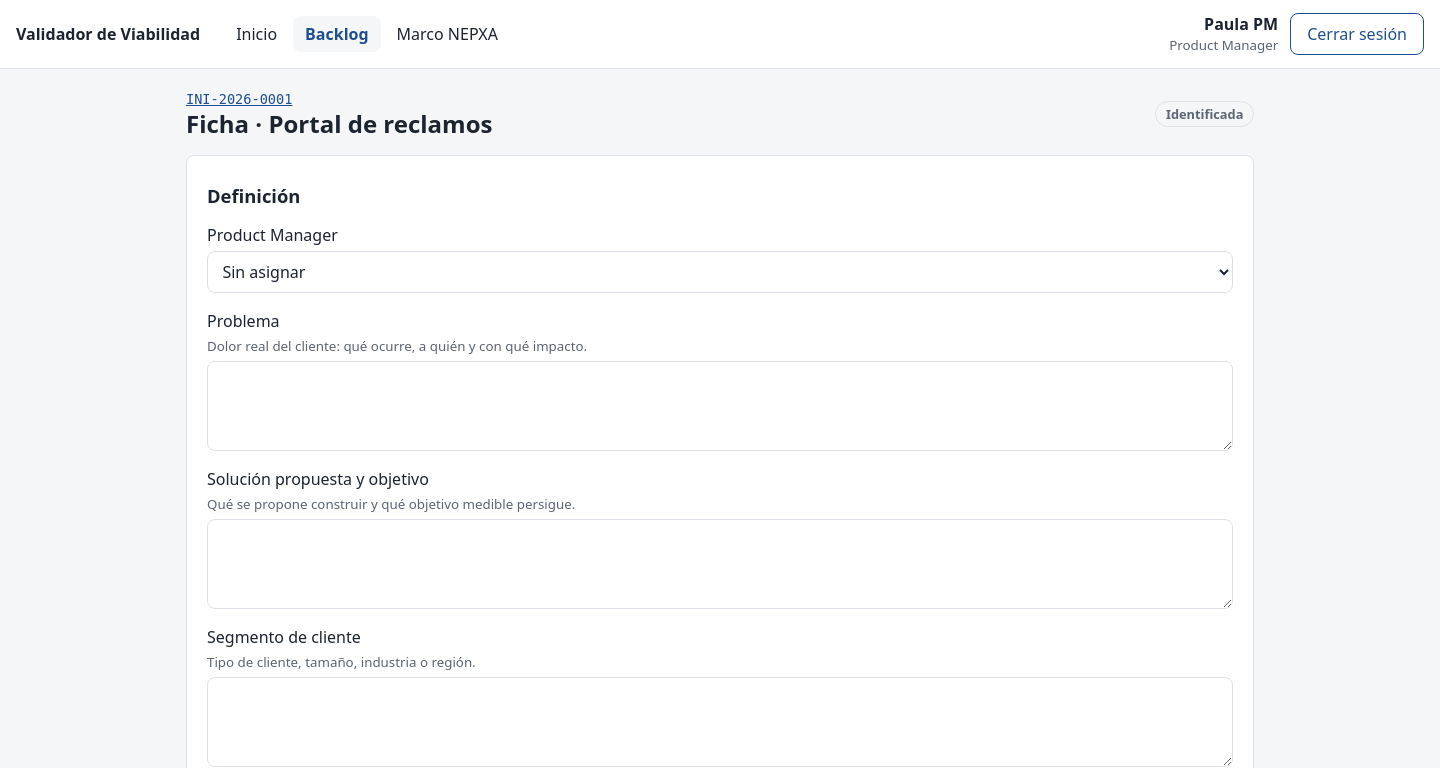
Test: al estructurar con la ficha incompleta lista los faltantes
Type "Llamadas al call center" into the text box labelled "Problema" at {"x": 720, "y": 406}, box x1=207 y1=361 x2=1233 y2=451
(page scrolled)
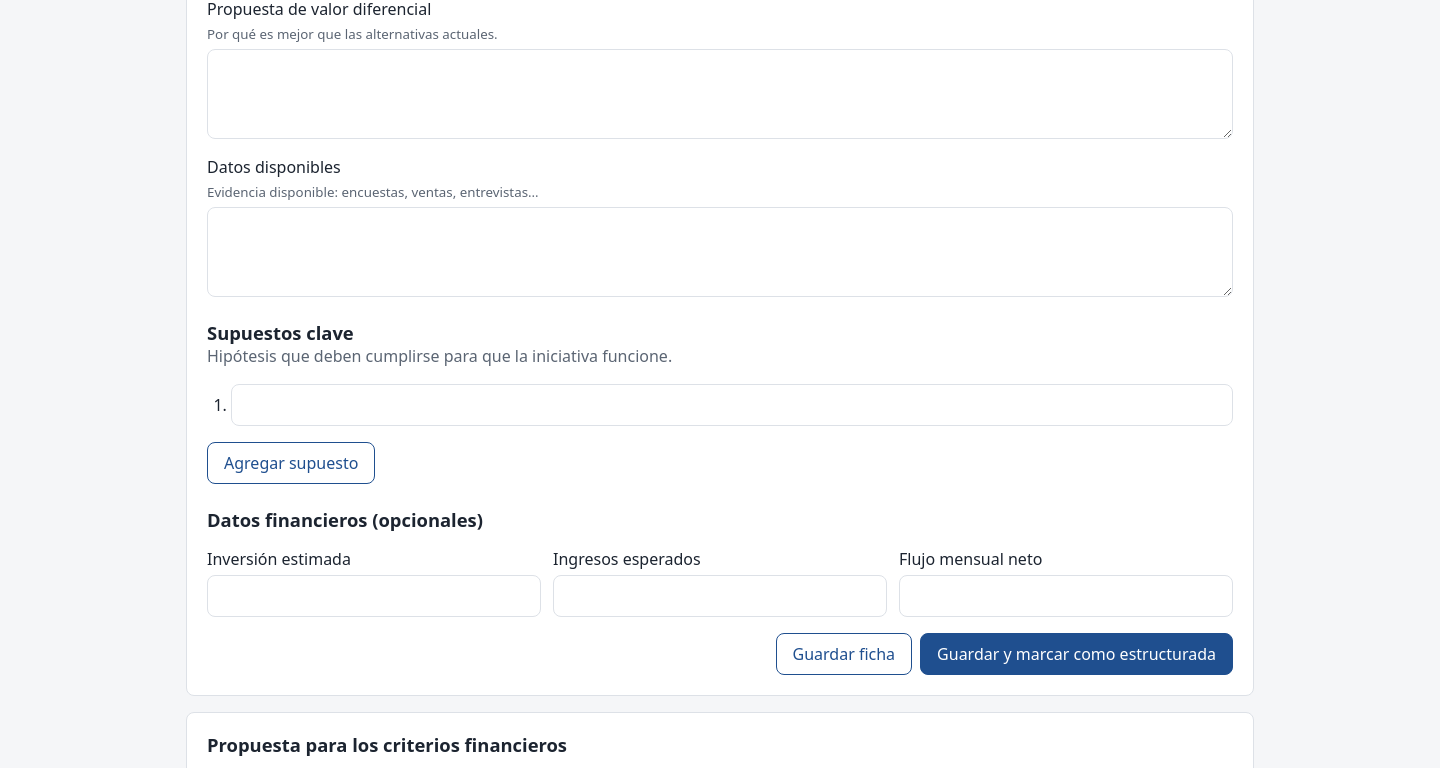
Type "Prefieren autogestión" into the field named "Supuesto 1" at {"x": 732, "y": 405}, box x1=231 y1=384 x2=1233 y2=426
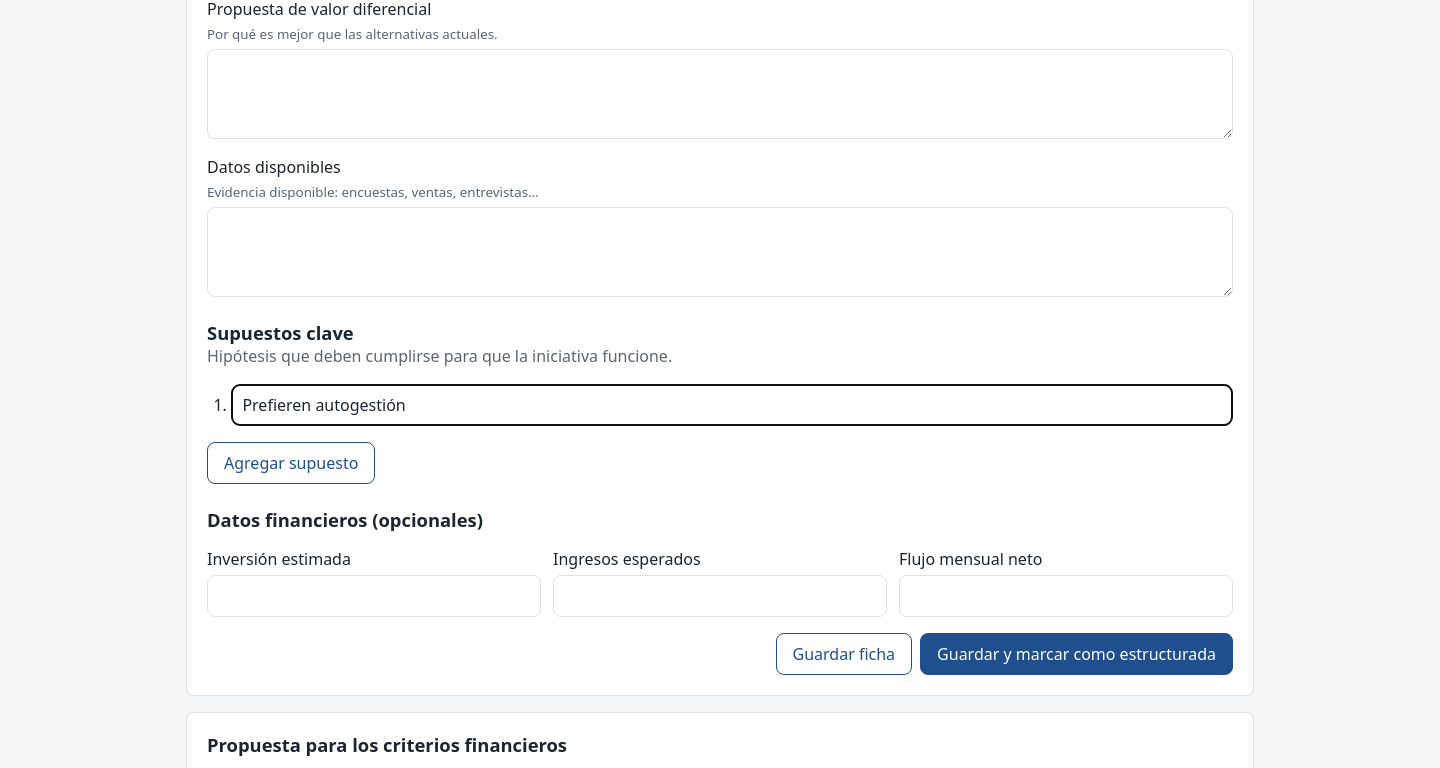
Click the button "Guardar y marcar como estructurada" at {"x": 1077, "y": 654}, box x1=920 y1=633 x2=1233 y2=675
(page scrolled)
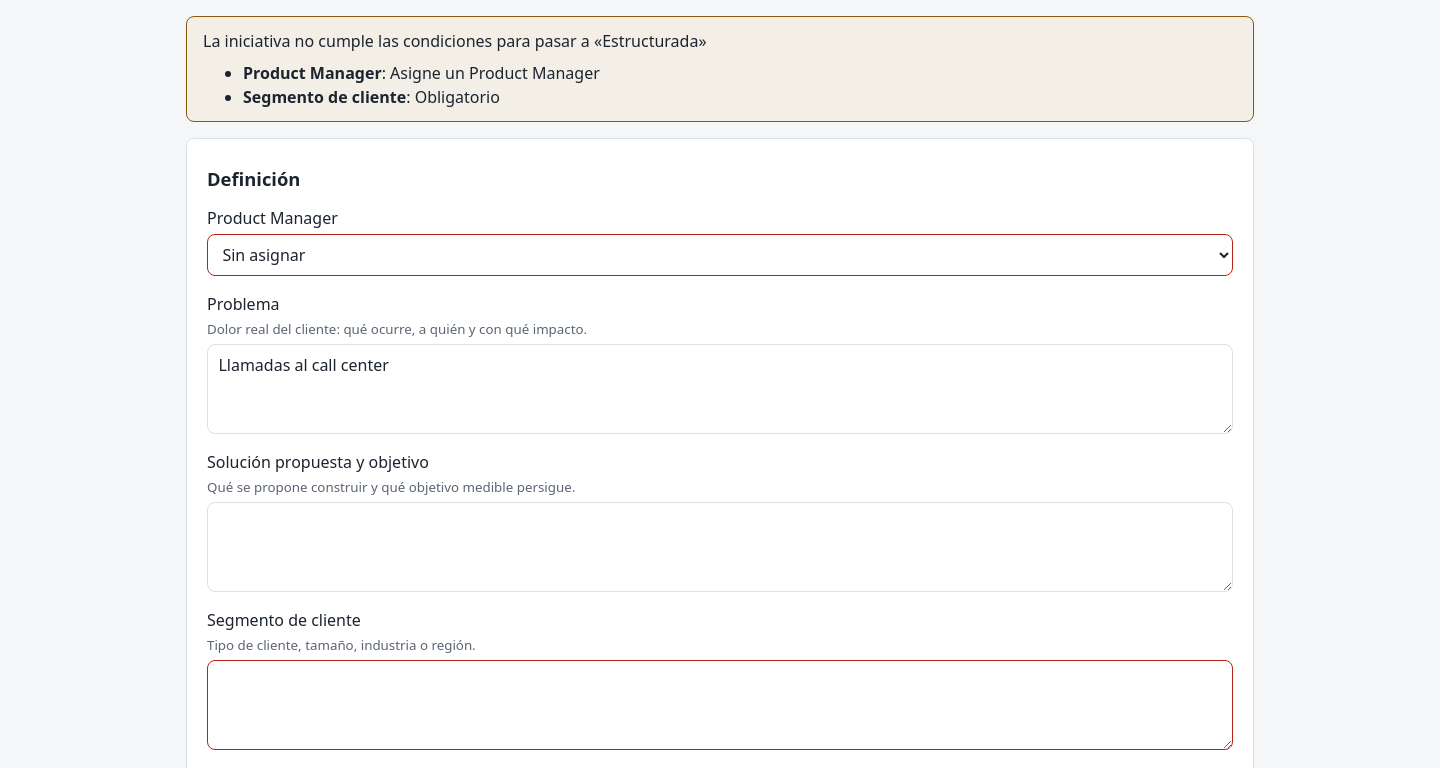
Expected: the message shows "no cumple las condiciones", x1=203 y1=30 x2=706 y2=52
Expected: the text "Product Manager" is shown, x1=243 y1=62 x2=382 y2=84
Expected: the text "Segmento de cliente" is shown, x1=243 y1=86 x2=406 y2=108
